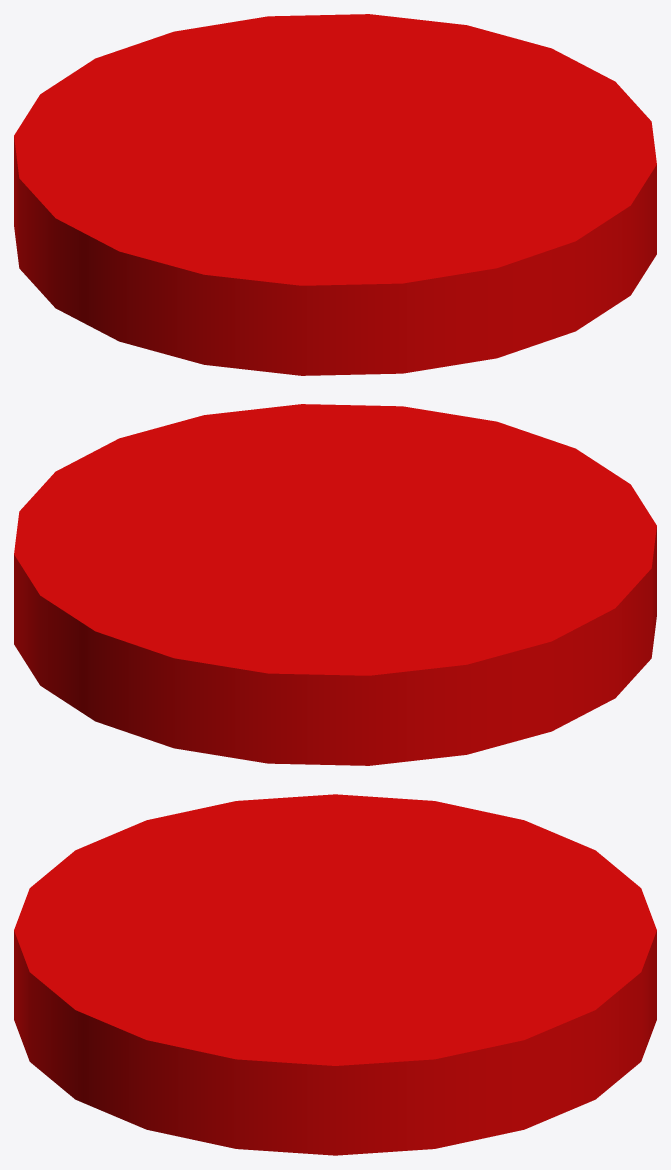
File: kirmizi.fbx
3 renders of one model, top to bottom at view 1: azimuth 30°, elevation 25°; view 2: azimuth 150°, elevation 25°; view 3: azimuth 270°, elevation 25°, orthographic.
Visible parts, largest first — view 1: pCylinder1; view 2: pCylinder1; view 3: pCylinder1.
Boxes of the visible parts, x1,y1,x2,y2 form: pCylinder1: (14,14,656,375); pCylinder1: (14,404,656,765); pCylinder1: (14,794,656,1155).
Size of the model in its own units: 6.28 by 0.9651 by 6.28.
